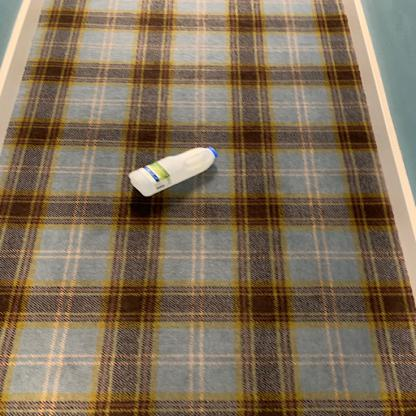trash: (127, 145, 220, 198)
